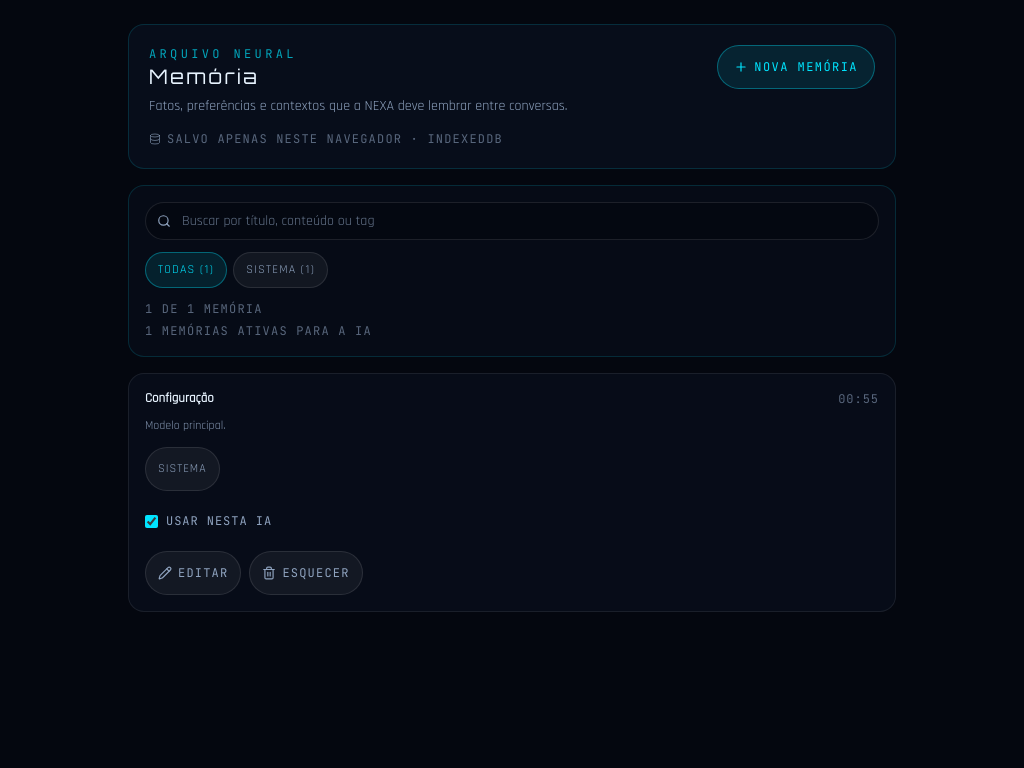
Test: MemoryView › edita e esquece uma memória com confirmação
Expected: the heading "Configuração" is shown, [145, 390, 214, 408]
Click the button with aria-label "Editar Configuração" at (193, 573), box [145, 551, 241, 595]
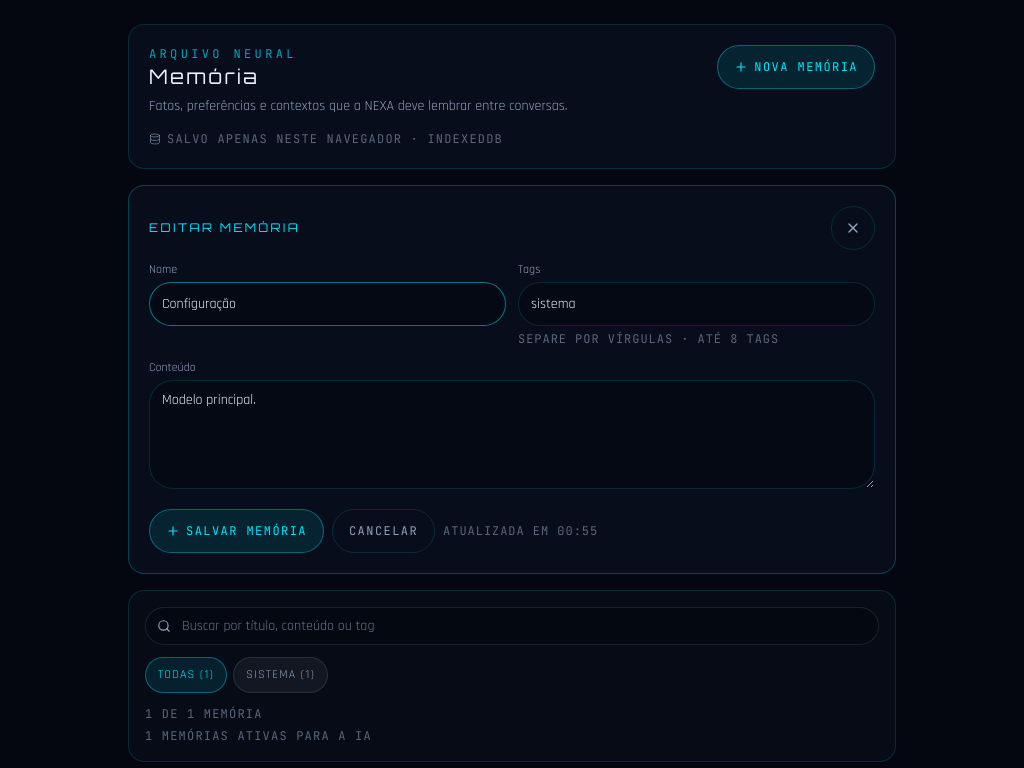
Replace the text in the field labelled "Nome" with "Configuração atualizada" at (328, 304), box [149, 282, 506, 326]
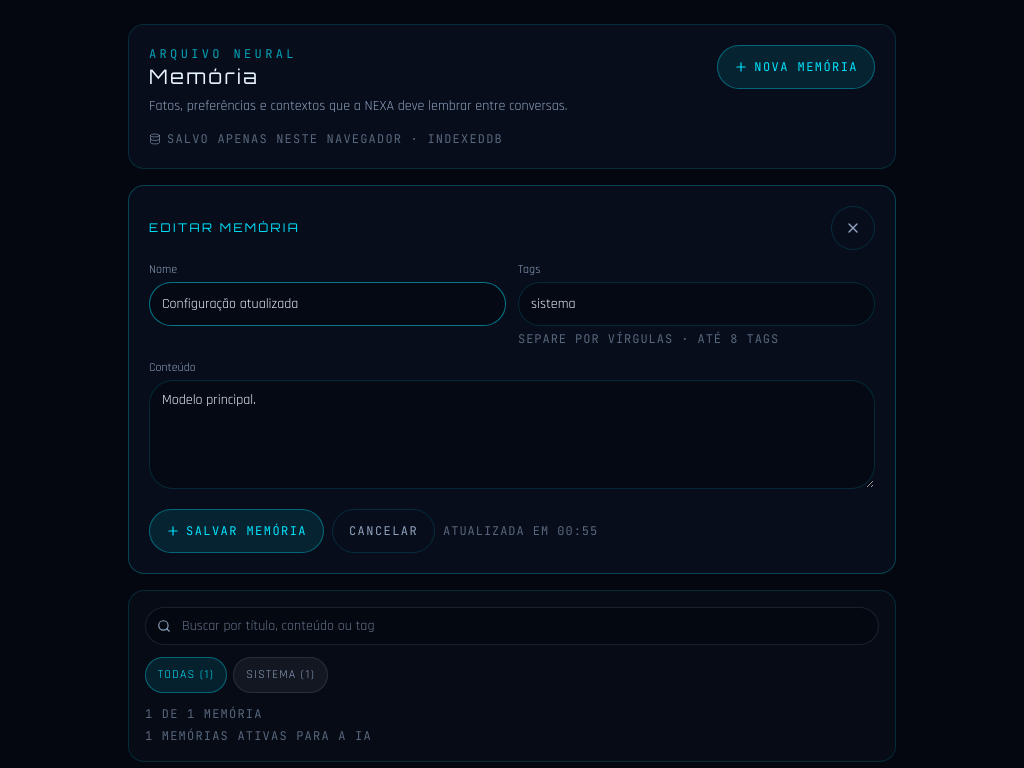
Click the button "Salvar memória" at (236, 531), box [149, 509, 324, 553]
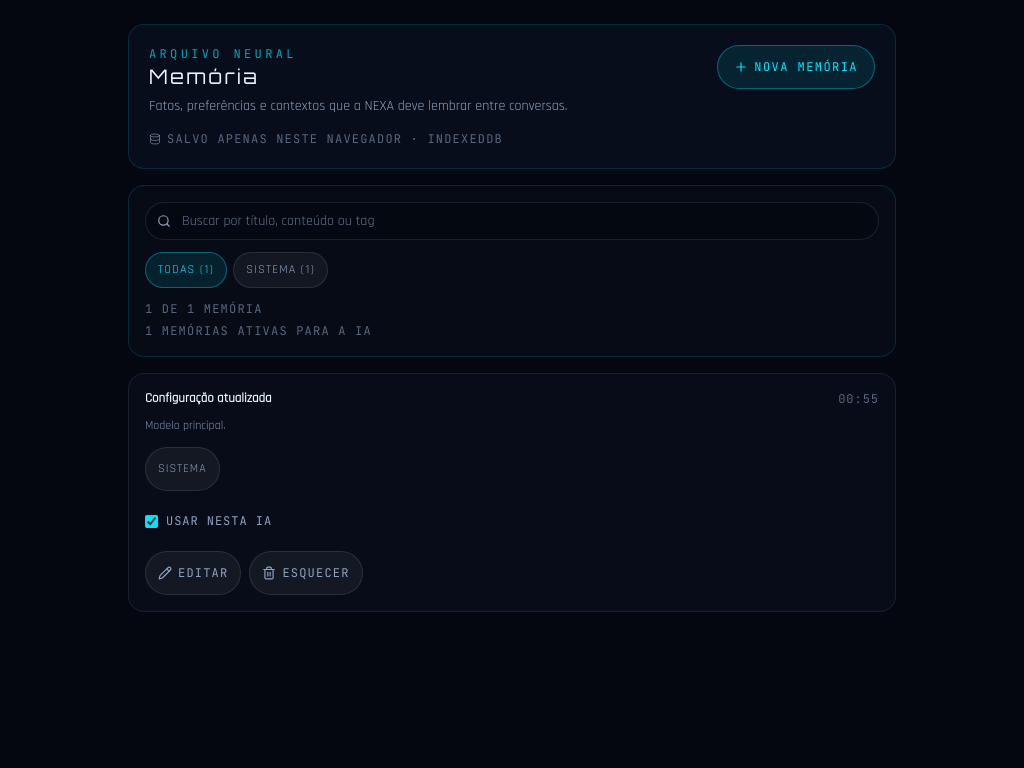
Expected: the heading "Configuração atualizada" is shown, [145, 390, 272, 408]
Click the button with aria-label "Esquecer Configuração atualizada" at (306, 573), box [249, 551, 363, 595]
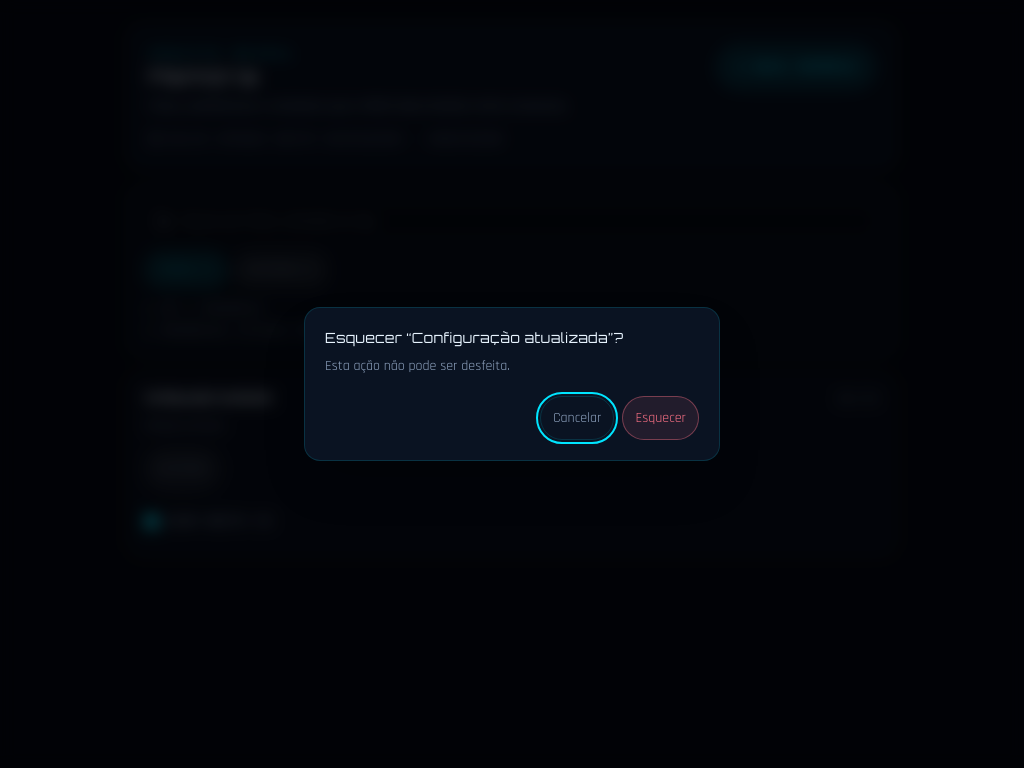
Click the button "Esquecer" at (661, 418), box [622, 396, 699, 440]
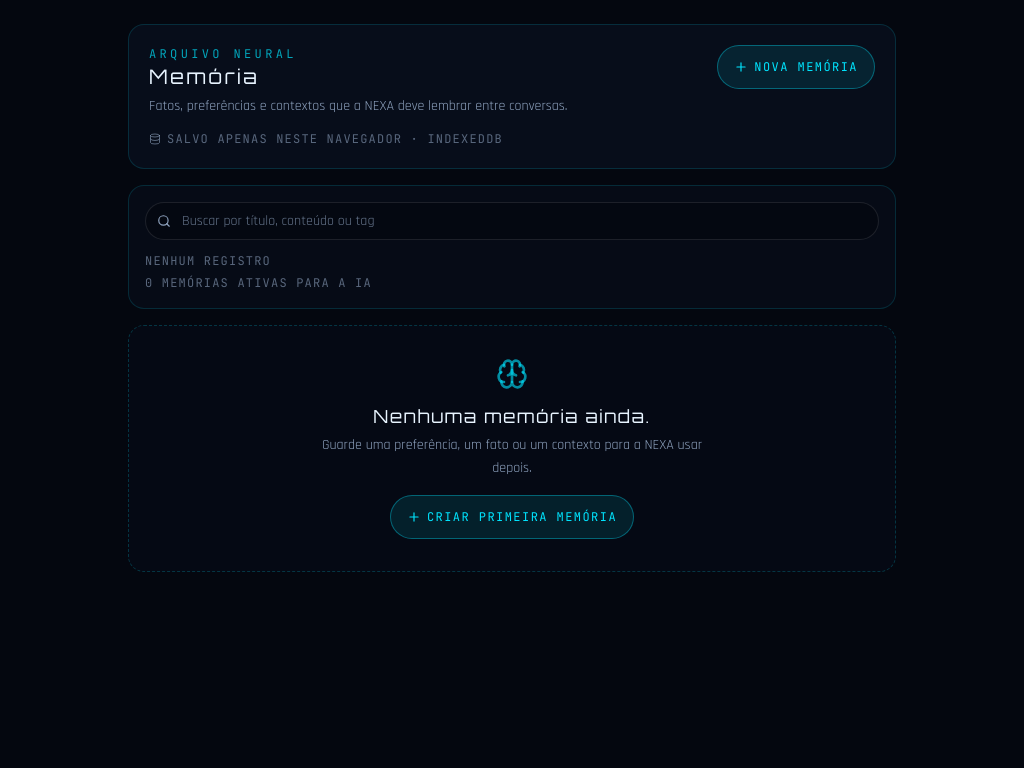
Expected: the heading "Configuração atualizada" is not shown
Expected: the heading "Nenhuma memória ainda." is shown, [373, 405, 651, 427]
